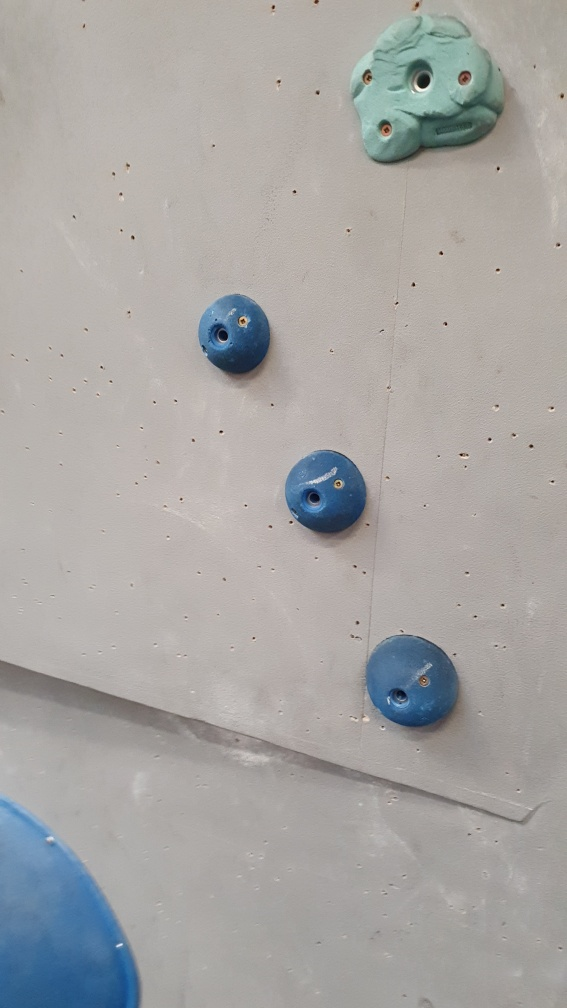Sloper: (365, 624, 465, 731), (280, 446, 378, 538), (191, 290, 276, 374)
